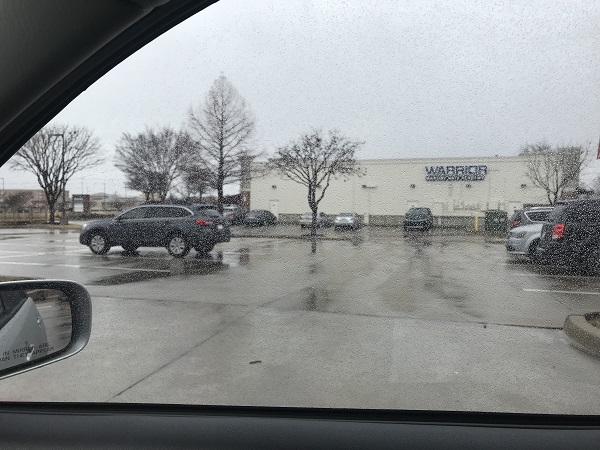car: (78, 202, 229, 255), (537, 199, 600, 272), (245, 207, 278, 227), (404, 206, 430, 228), (332, 211, 359, 230)
